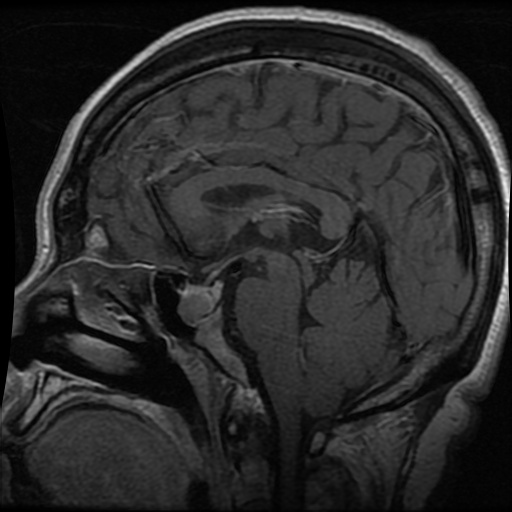pituitary: (180, 281, 223, 318)
